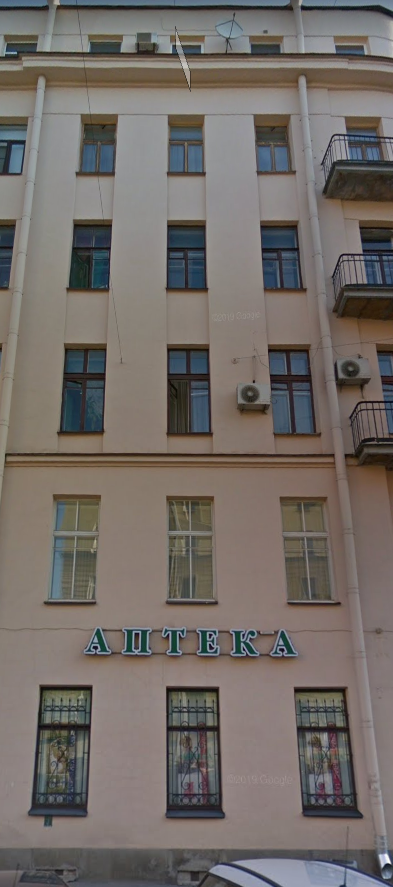signboard: (89, 618, 299, 666)
window: (31, 683, 91, 816), (168, 687, 219, 815), (296, 690, 346, 813), (49, 494, 102, 602), (281, 493, 330, 602), (265, 347, 314, 436), (168, 342, 211, 436), (62, 346, 105, 438), (173, 502, 212, 602), (166, 217, 212, 293), (67, 216, 109, 290), (261, 220, 302, 288), (255, 122, 293, 175), (78, 122, 116, 175), (168, 126, 205, 177)
